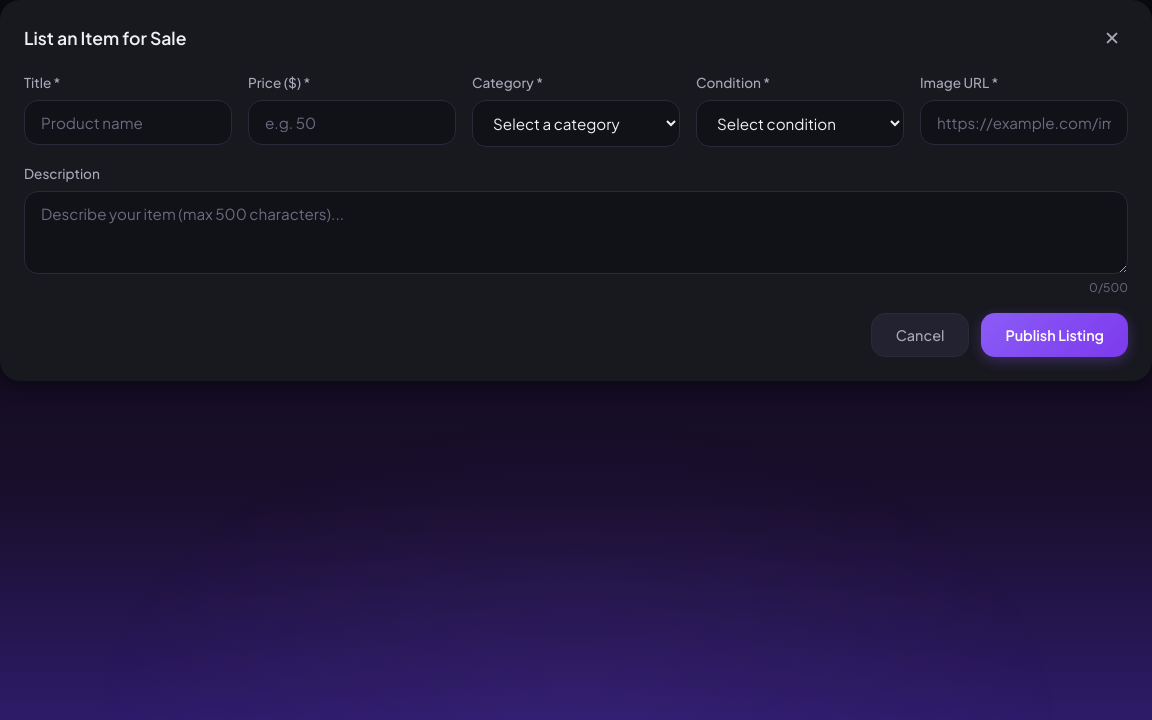
Scenario: CreateListingForm › shows "Title is required" when submitting with empty title
Type "10" into the number field labelled "Price ($) *".
click(352, 122); type("10")  # box [248,100,456,145]
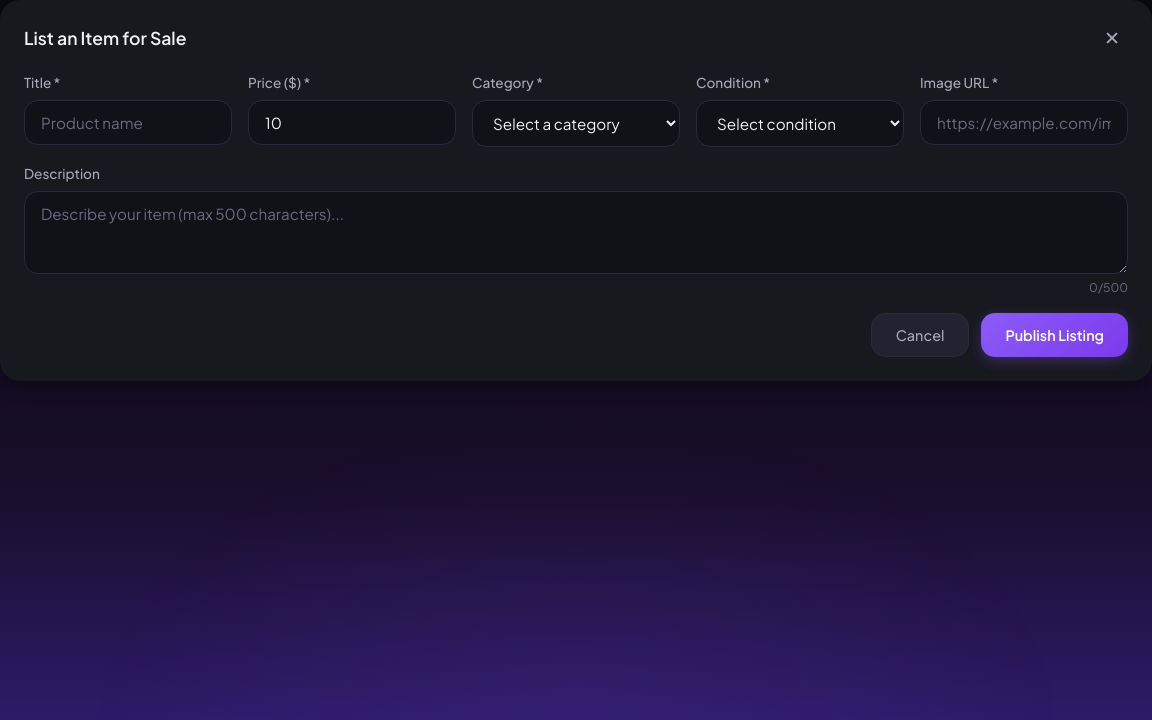
Select "Running" in the dropdown labelled "Category *" at [576, 123], box [472,100,680,147]
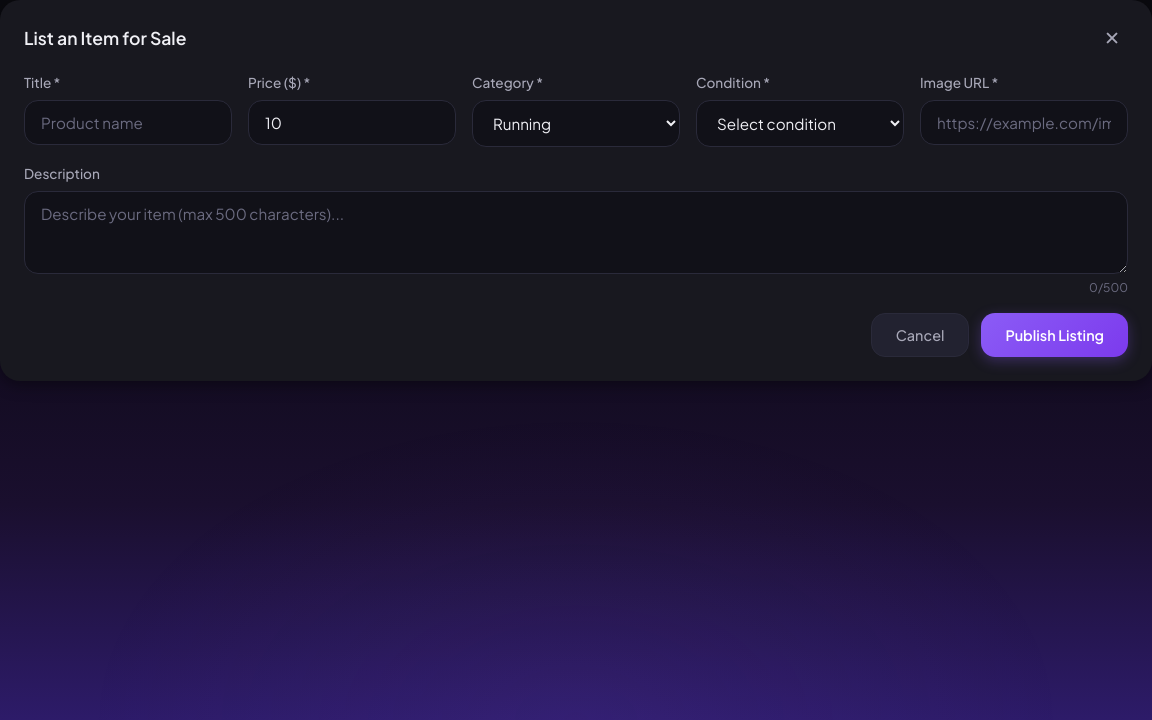
Select "Good" in the dropdown labelled "Condition *" at [800, 123], box [696,100,904,147]
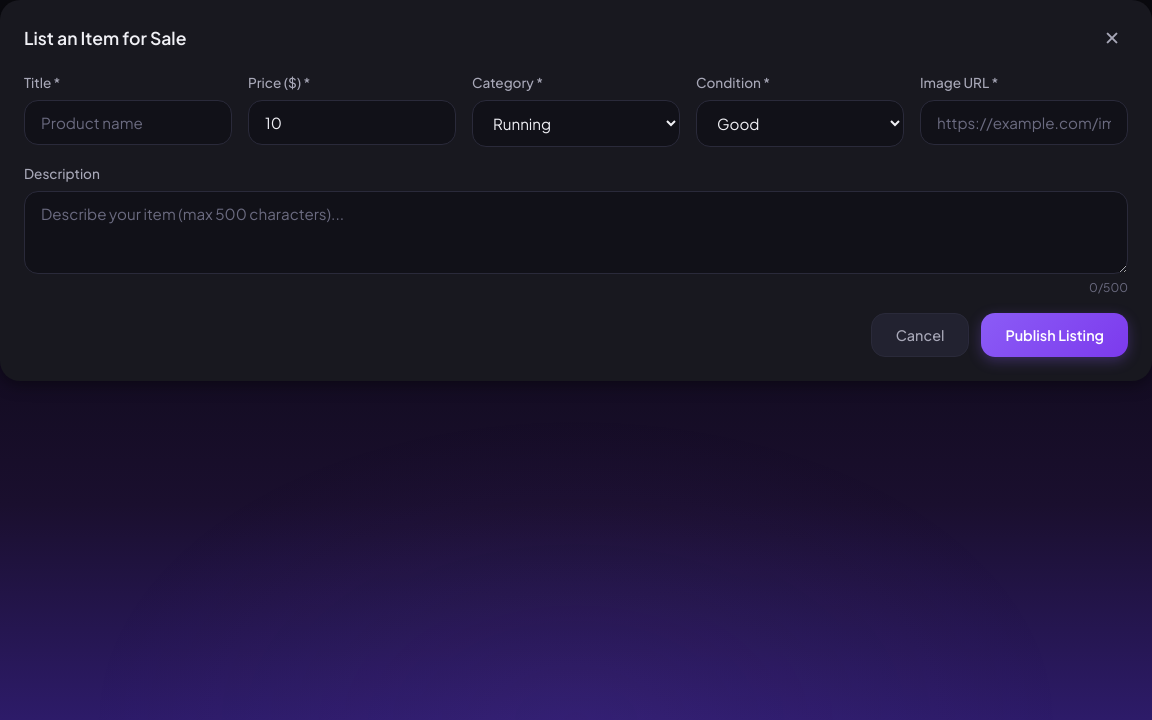
Type "https://img.com/a.jpg" into the field labelled "Image URL *".
click(1024, 122); type("https://img.com/a.jpg")  # box [920,100,1128,145]
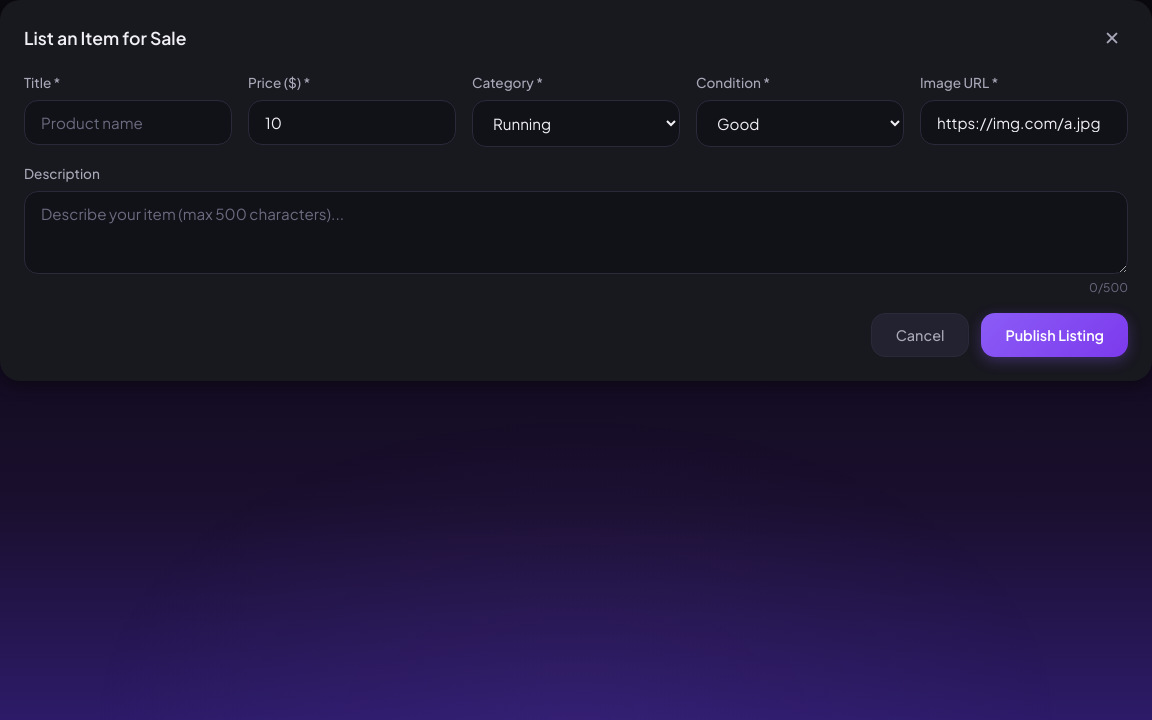
Click the button "Publish Listing".
click(1055, 335)  # box [981,313,1128,357]
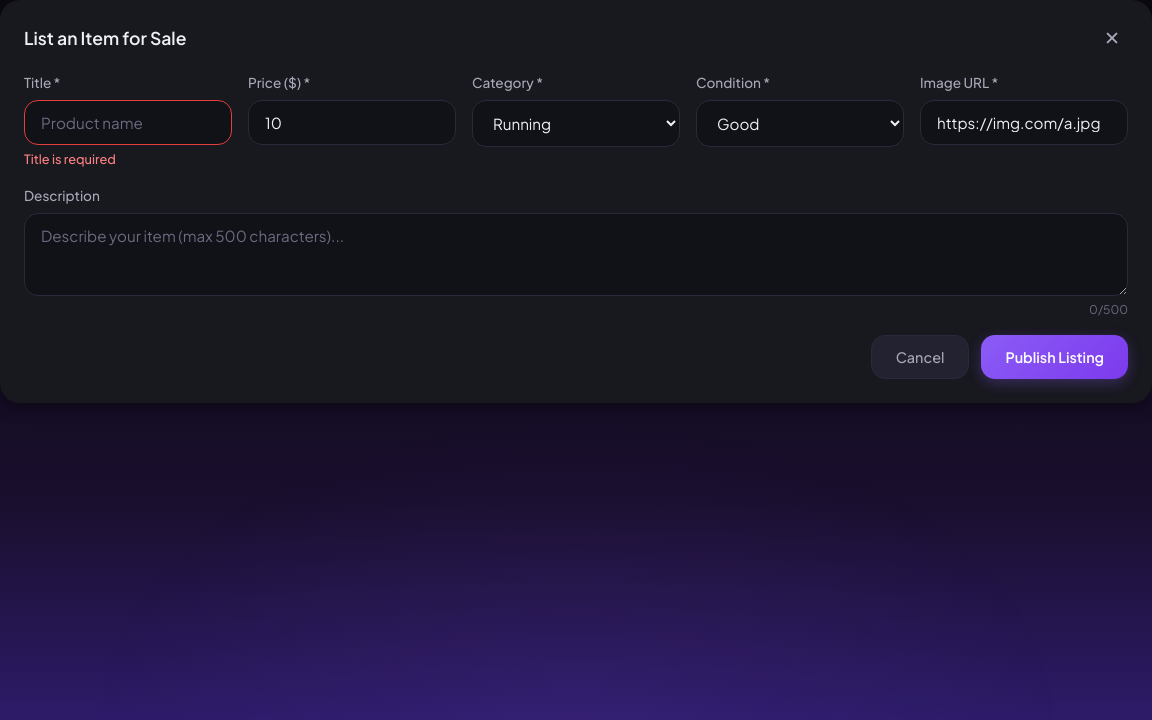
Now the text "Title is required" is shown, box [24,151,116,167]
